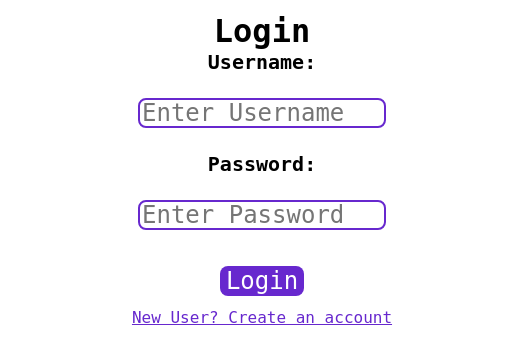
Scenario: LoginPage › shows error when both fields are empty
Note: Click login without entering anything
What coordinates should you click on to do the following:
click the button "Login"
I would click on:
 (262, 281)
Its box is [220,266,304,296].
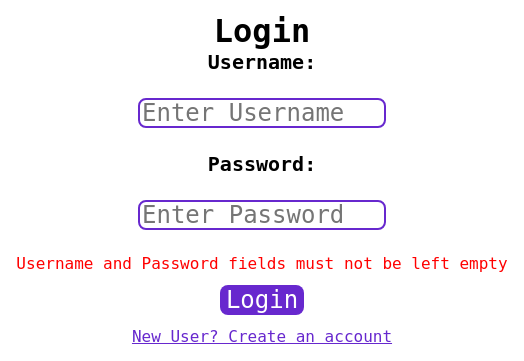
Check: the text "Username and Password fields must not be left empty" is shown, box [16,254,508,273]
